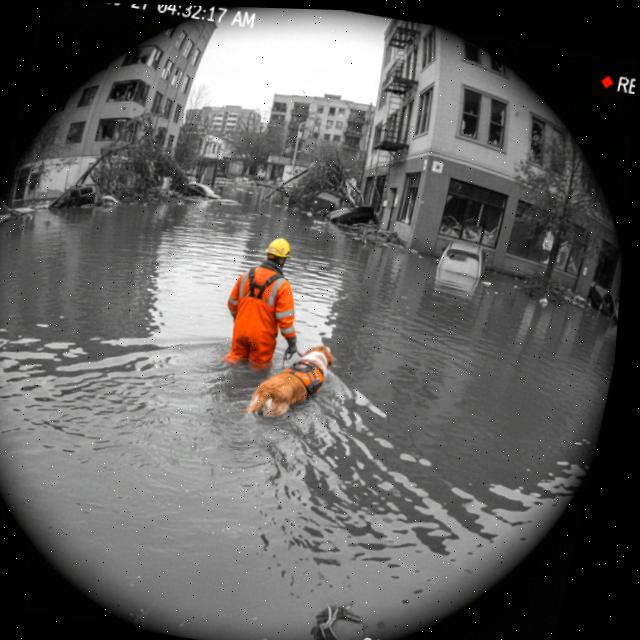dog: (240, 328, 348, 439)
rescuer: (208, 220, 324, 383)
